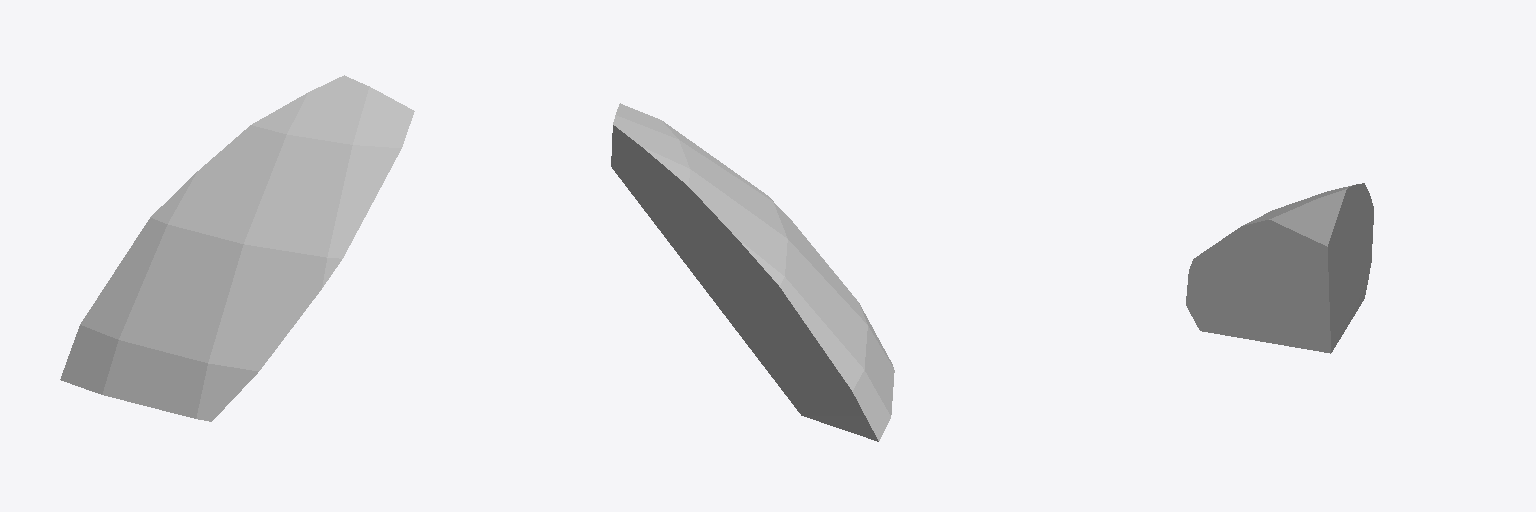
Rendered from Sphere_Cell_Fracture47.obj.
3 views of the same model, side by side, from view 1: azimuth 30°, elevation 25°; view 2: azimuth 150°, elevation 25°; view 3: azimuth 270°, elevation 25° (orthographic).
Bounding box in the file's own units: 0.5493 × 0.4324 × 0.2922.